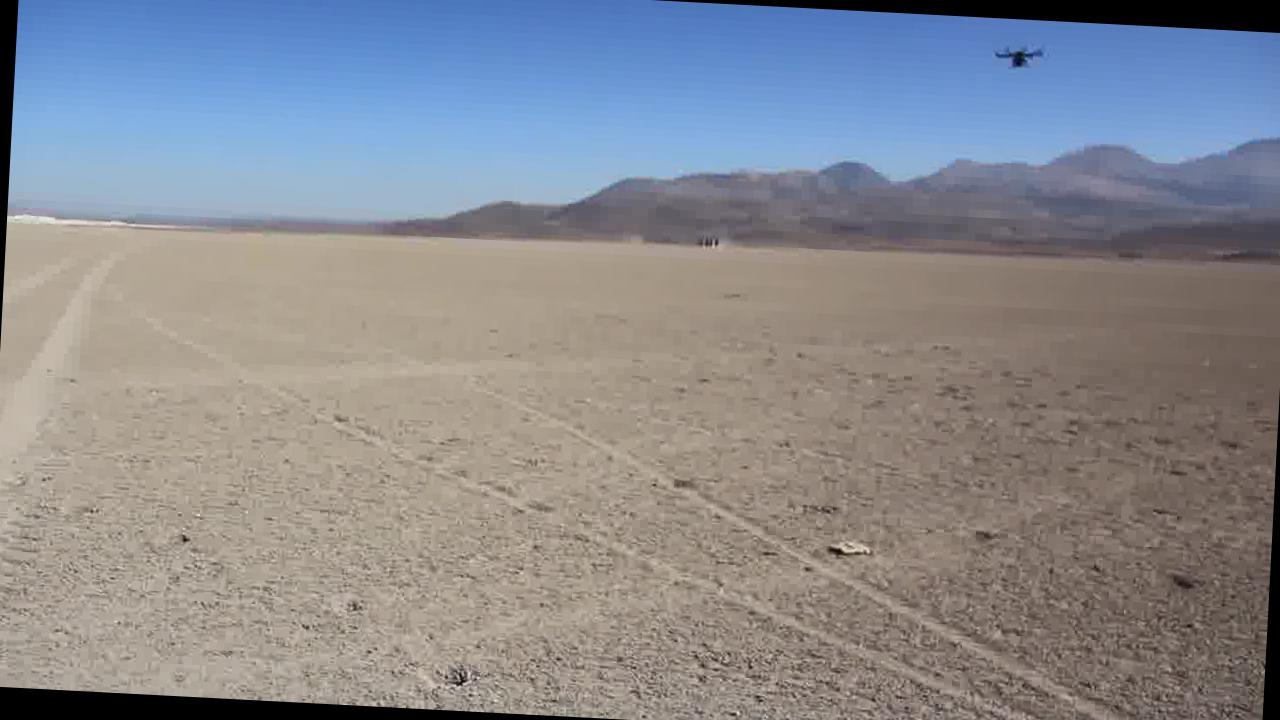drone: (986, 37, 1048, 74)
